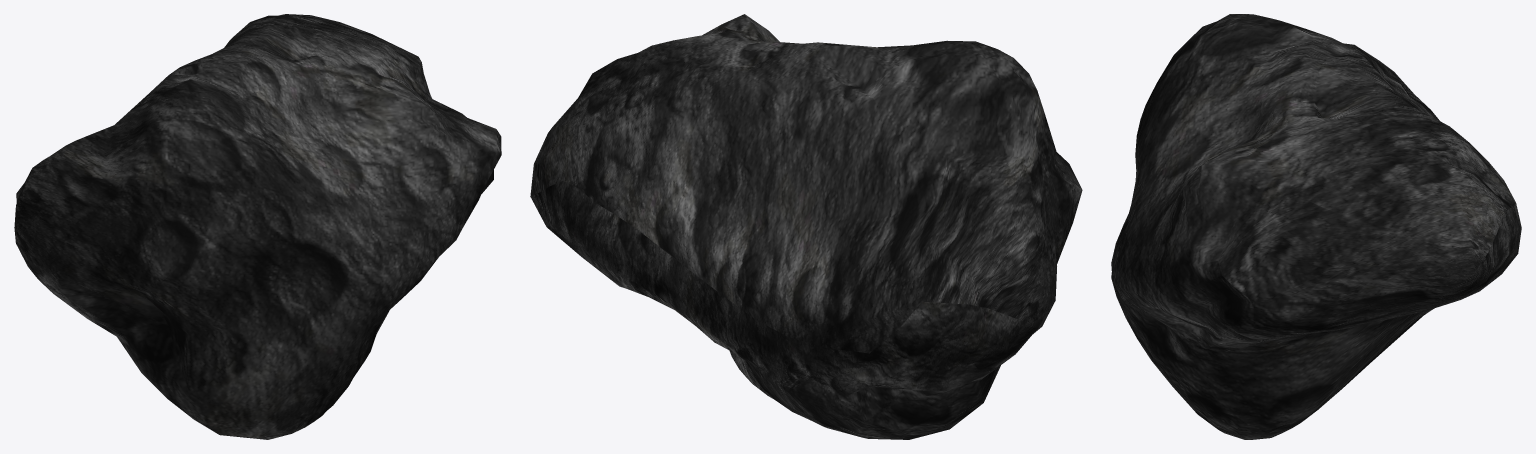
File: Single_asteroid_3.fbx
3 views of the same model, side by side, from view 1: azimuth 30°, elevation 25°; view 2: azimuth 150°, elevation 25°; view 3: azimuth 270°, elevation 25° (orthographic). The views are drawn at different scales.
Parts seen in each view (by area): view 1: aster4; view 2: aster4; view 3: aster4.
Boxes of the visible parts, <box> form: aster4: <box>14,14,501,439</box>; aster4: <box>530,14,1082,439</box>; aster4: <box>1111,14,1521,439</box>.
Size of the model in its own units: 260 by 211 by 211.
1 material, 1 textured.
